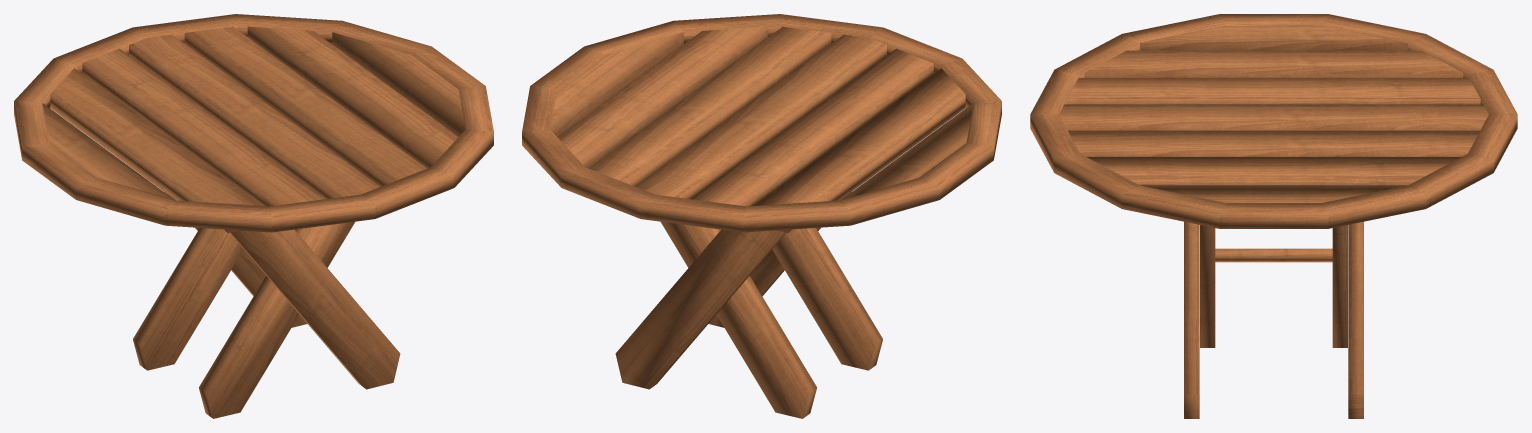
File: Pool_Table_02.fbx
3 renders of one model, left to right at view 1: azimuth 30°, elevation 25°; view 2: azimuth 150°, elevation 25°; view 3: azimuth 270°, elevation 25°, orthographic.
Visible parts, largest first — view 1: Pool_Table_02; view 2: Pool_Table_02; view 3: Pool_Table_02.
Boxes of the visible parts, x1,y1,x2,y2 form: Pool_Table_02: [14, 14, 493, 418]; Pool_Table_02: [522, 14, 1001, 418]; Pool_Table_02: [1030, 14, 1517, 418].
Bounding box in the file's own units: 111 × 66.42 × 114.
